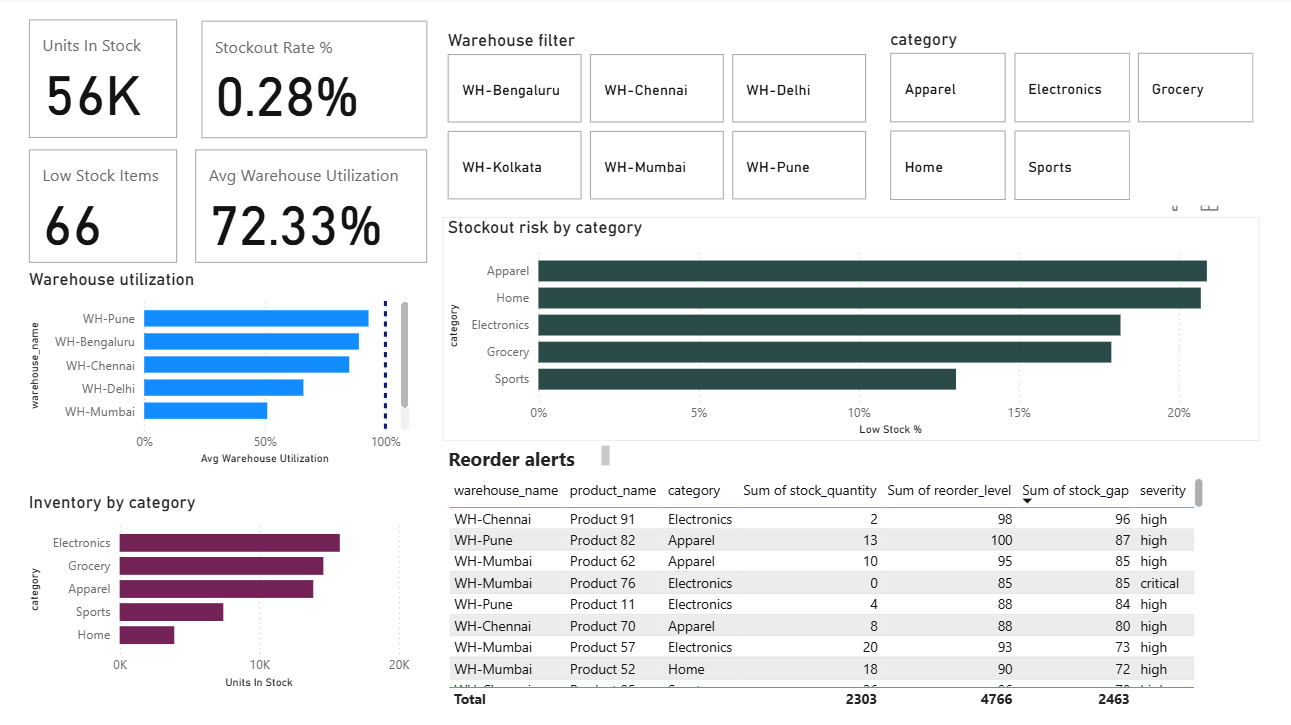

This screenshot's page, from the dashboard's own definition file:
{"tool":"powerbi","page":{"name":"Inventory & Warehouse","canvas":[1280,720],"ordinal":1},"visuals":[{"type":"cardVisual","fields":{"Data":["_Measures.Units In Stock"]},"box":[34.8,17.4,155.3,126.3],"z":0},{"type":"cardVisual","fields":{"Data":["_Measures.Avg Warehouse Utilization"]},"box":[196.9,144.3,237.2,121.1],"z":1000},{"type":"cardVisual","fields":{"Data":["_Measures.Stockout Rate %"]},"box":[203,18.3,231.1,126],"z":2000},{"type":"cardVisual","fields":{"Data":["_Measures.Low Stock Items"]},"box":[34.8,143.7,155.3,121.9],"z":3000},{"type":"clusteredBarChart","title":"Warehouse utilization","fields":{"Category":["dim_warehouse.warehouse_name"],"Y":["_Measures.Avg Warehouse Utilization"]},"box":[34.8,265.6,381.8,197.4],"z":4000},{"type":"clusteredBarChart","title":"Inventory by category","fields":{"Category":["dim_product.category"],"Y":["_Measures.Units In Stock"]},"box":[34.8,484.8,381.8,197.4],"z":5000},{"type":"clusteredBarChart","title":"Stockout risk by category","fields":{"Category":["dim_product.category"],"Y":["_Measures.Low Stock %"]},"box":[444.2,214.8,799.8,219.2],"z":6000},{"type":"tableEx","fields":{"Values":["alert_low_stock.warehouse_name","alert_low_stock.product_name","alert_low_stock.category","Sum(alert_low_stock.stock_quantity)","Sum(alert_low_stock.reorder_level)","Sum(alert_low_stock.stock_gap)","alert_low_stock.severity"]},"box":[444.2,466,749,235.2],"z":7000},{"type":"actionButton","box":[0,0,100,40],"z":8000},{"type":"textbox","box":[444.2,434,168.4,31.9],"z":9000},{"type":"advancedSlicerVisual","title":"Warehouse filter","fields":{"Values":["dim_warehouse.warehouse_name"]},"box":[444.2,31.9,419.5,172.7],"z":10000},{"type":"advancedSlicerVisual","fields":{"Values":["dim_product.category"]},"box":[876.8,42.1,367.3,172.7],"z":11000}]}

Visuals, with their boxes in screenshot pixels (x1, y1, x2, y2), scaled from the page's 1280x720 canvas onto the 1291x725 screenshot:
cardVisual - _Measures.Units In Stock: bbox=(35, 18, 192, 145)
cardVisual - _Measures.Avg Warehouse Utilization: bbox=(199, 145, 438, 267)
cardVisual - _Measures.Stockout Rate %: bbox=(205, 18, 438, 145)
cardVisual - _Measures.Low Stock Items: bbox=(35, 145, 192, 267)
"Warehouse utilization" clusteredBarChart: bbox=(35, 267, 420, 466)
"Inventory by category" clusteredBarChart: bbox=(35, 488, 420, 687)
"Stockout risk by category" clusteredBarChart: bbox=(448, 216, 1255, 437)
tableEx - alert_low_stock.warehouse_name x alert_low_stock.product_name: bbox=(448, 469, 1203, 706)
actionButton: bbox=(0, 0, 101, 40)
textbox: bbox=(448, 437, 618, 469)
"Warehouse filter" advancedSlicerVisual: bbox=(448, 32, 871, 206)
advancedSlicerVisual - dim_product.category: bbox=(884, 42, 1255, 216)
